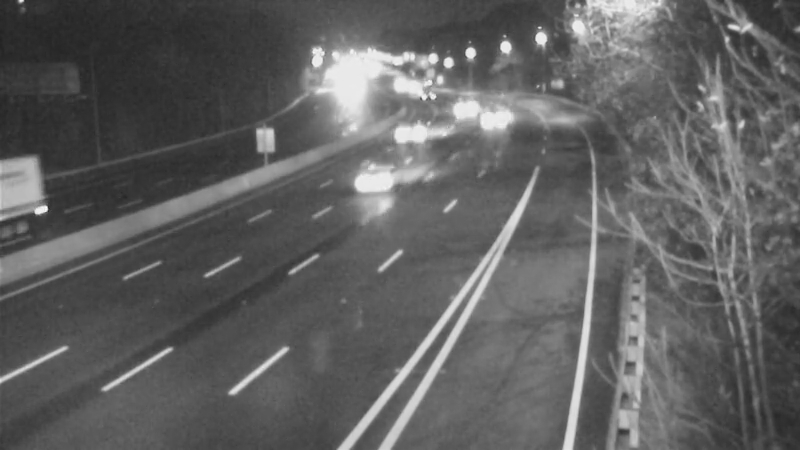vehicle: (335, 138, 415, 218), (1, 164, 78, 244), (441, 78, 491, 128), (474, 92, 524, 142), (384, 103, 434, 153)
